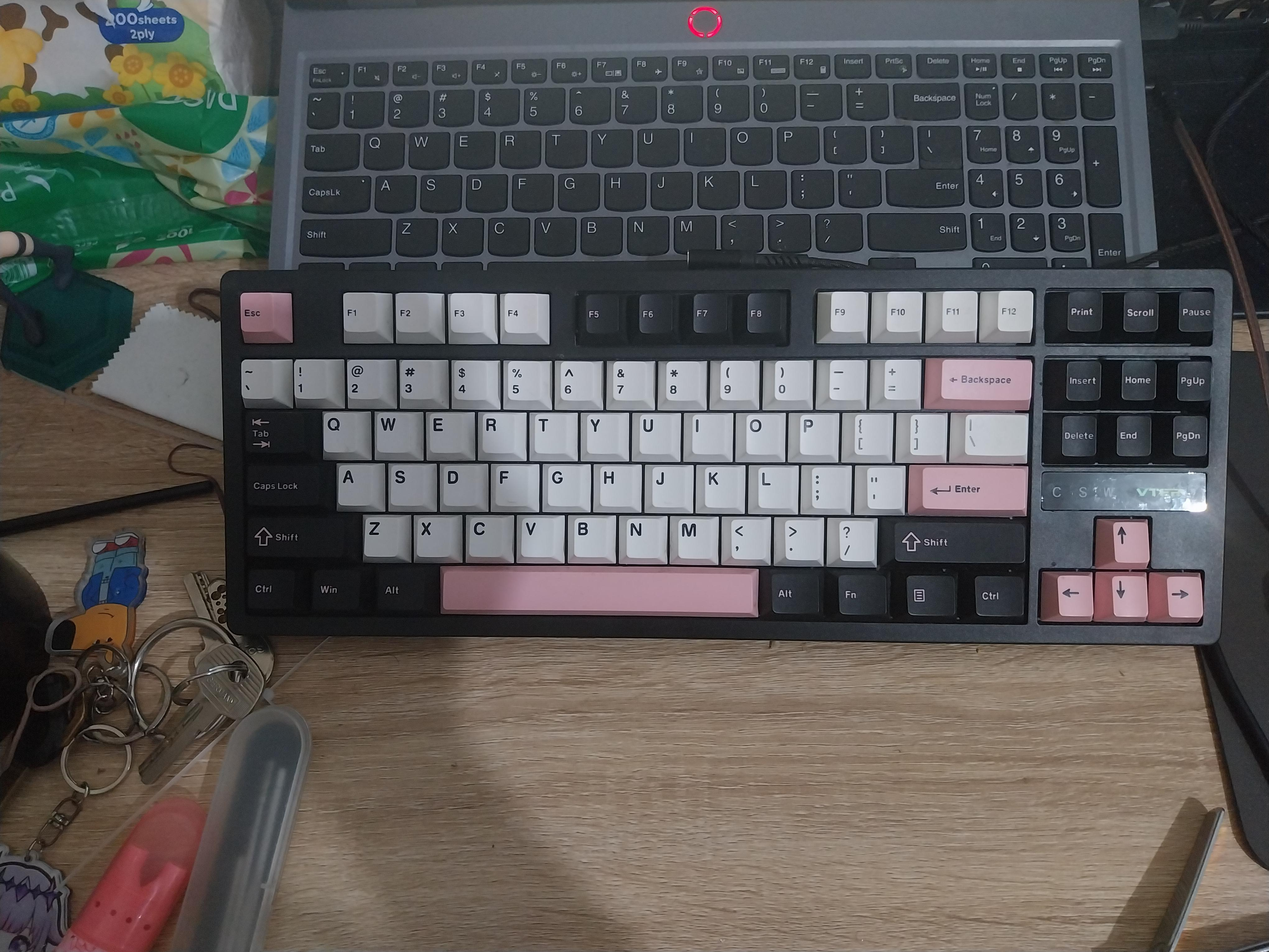keyboard: (220, 269, 1234, 646), (292, 46, 1134, 269)
